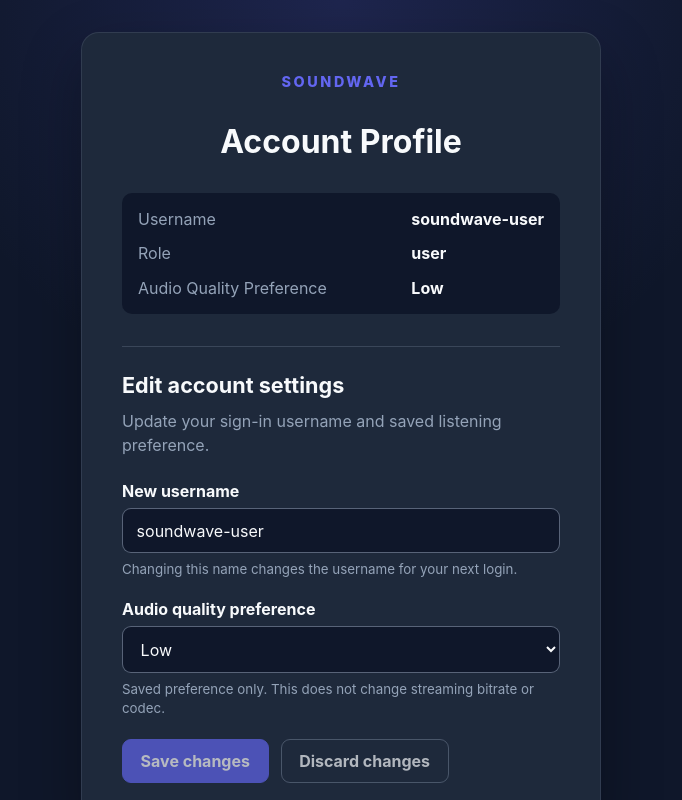
Test: SCRUM-359 profile editor › clears the stored preference using JSON null
The width and height of the screenshot is (682, 800).
Select "Clear preference" in the dropdown labelled "Audio quality preference" at coordinates (341, 650), box [122, 626, 560, 673]
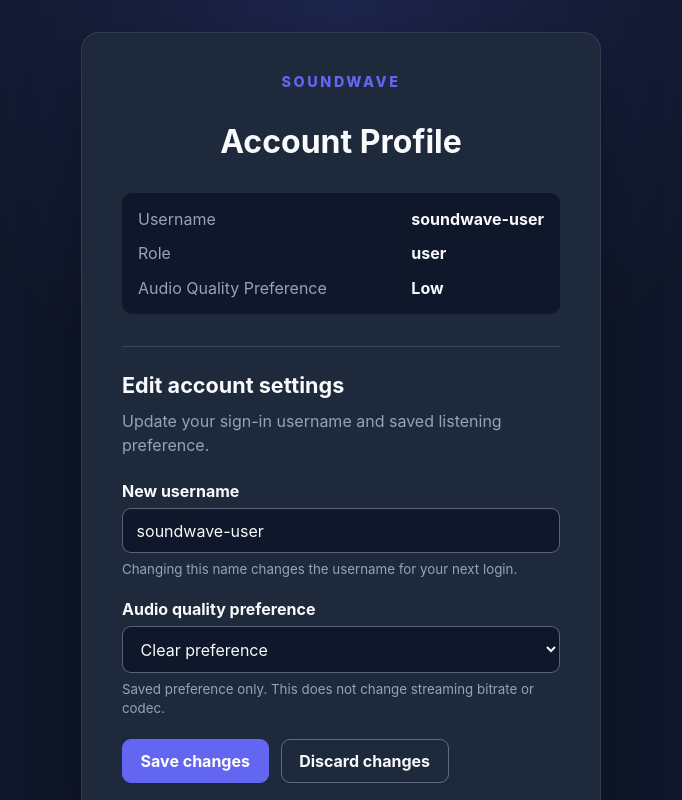
Click the button "Save changes".
click(195, 761)  # box [122, 739, 268, 783]
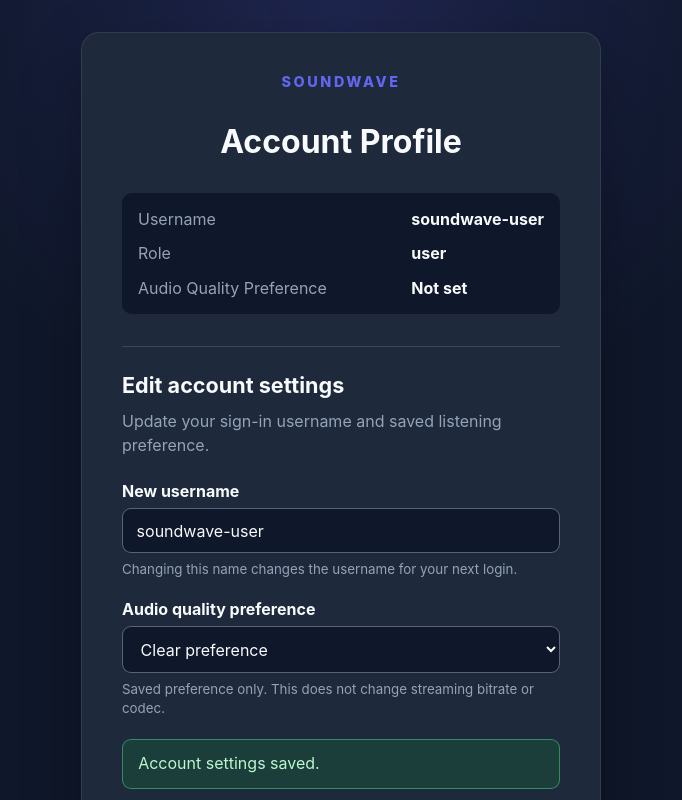
Expected: the message "Account settings saved." is shown, [122, 739, 560, 790]
Expected: the text "Not set" is shown, [411, 278, 467, 298]
